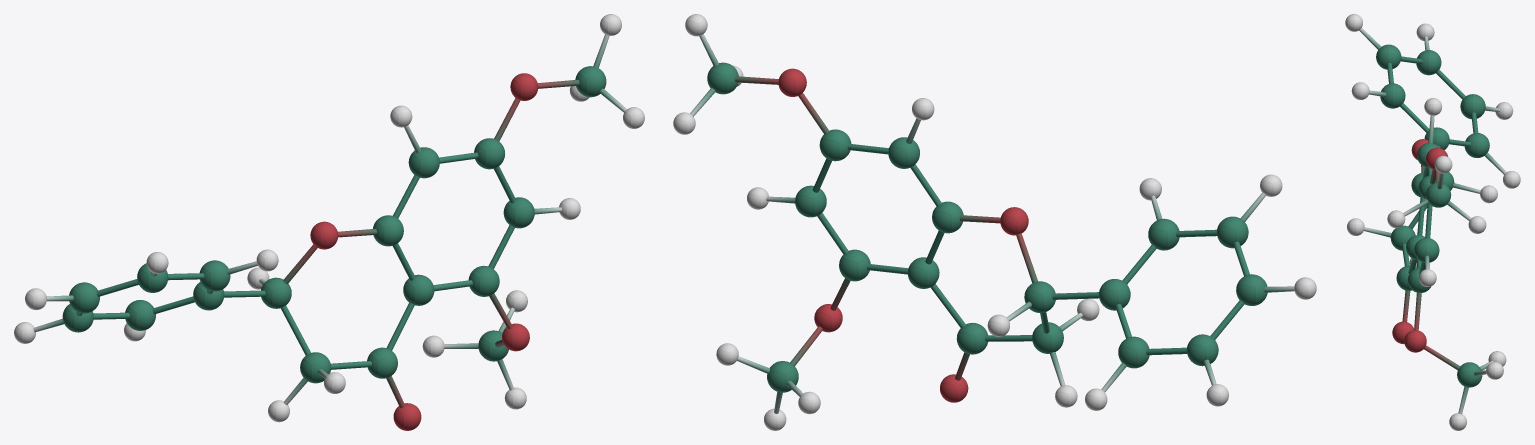
Rendered from 5,7-dimethoxyflavanone.fbx.
3 renders of one model, left to right at view 1: azimuth 30°, elevation 25°; view 2: azimuth 150°, elevation 25°; view 3: azimuth 270°, elevation 25°, orthographic. The views are drawn at different scales.
Visible parts, largest first — view 1: curMeshHyperballExportedMesh; view 2: curMeshHyperballExportedMesh; view 3: curMeshHyperballExportedMesh.
Part boxes in pixels (left/top/right/bottom): curMeshHyperballExportedMesh: left=14, top=14, right=644, bottom=430; curMeshHyperballExportedMesh: left=673, top=14, right=1316, bottom=430; curMeshHyperballExportedMesh: left=1345, top=14, right=1520, bottom=430.
Size of the model in its own units: 12.66 by 7.58 by 3.92.
